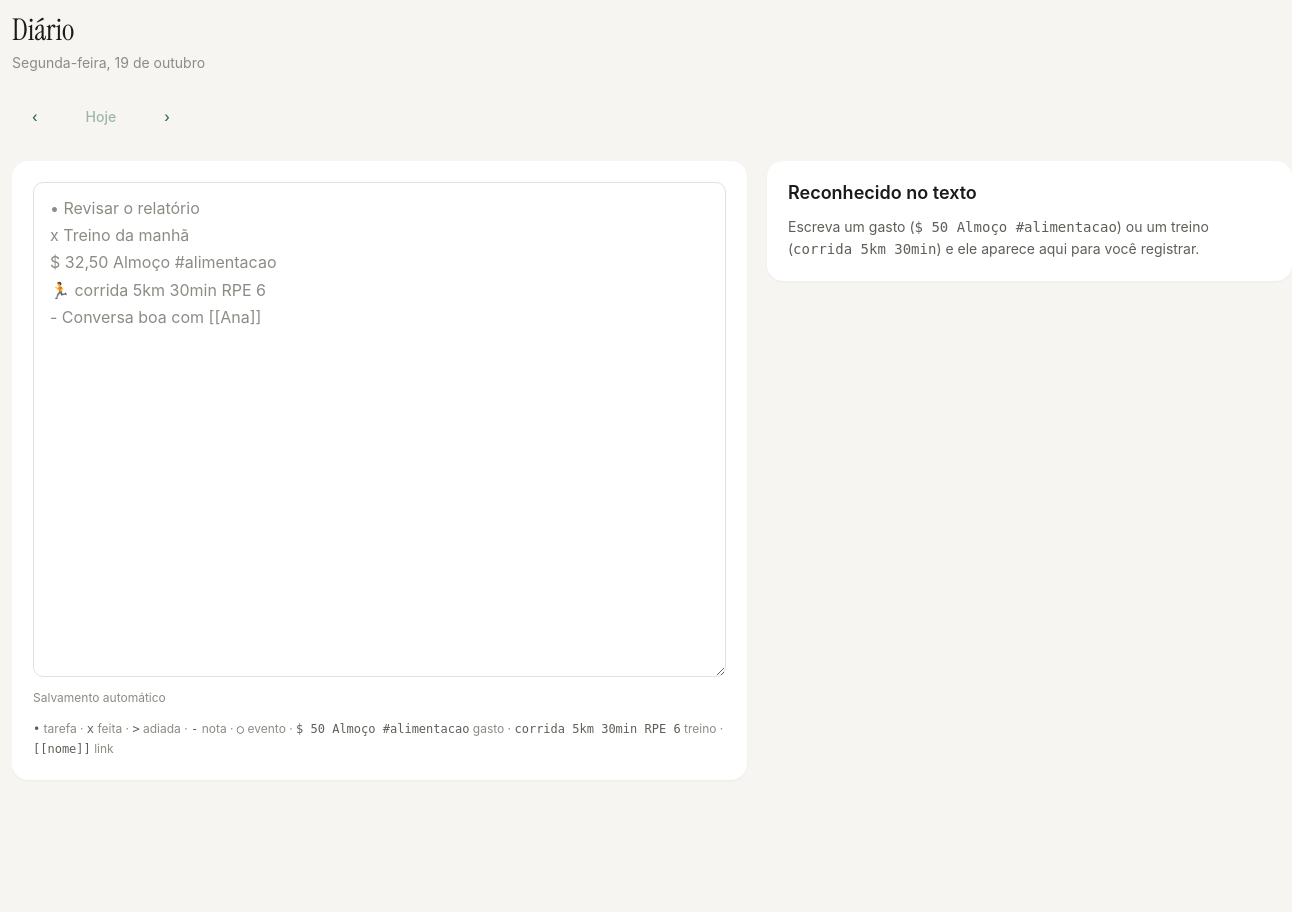
it: JournalPage (diário) › registra um gasto reconhecido e permite desfazer
The width and height of the screenshot is (1292, 912).
Replace the text in the text box named "Texto do dia" with "$ 32,50 Almoço #alimentação": {"x": 380, "y": 430} [33, 182, 726, 677]
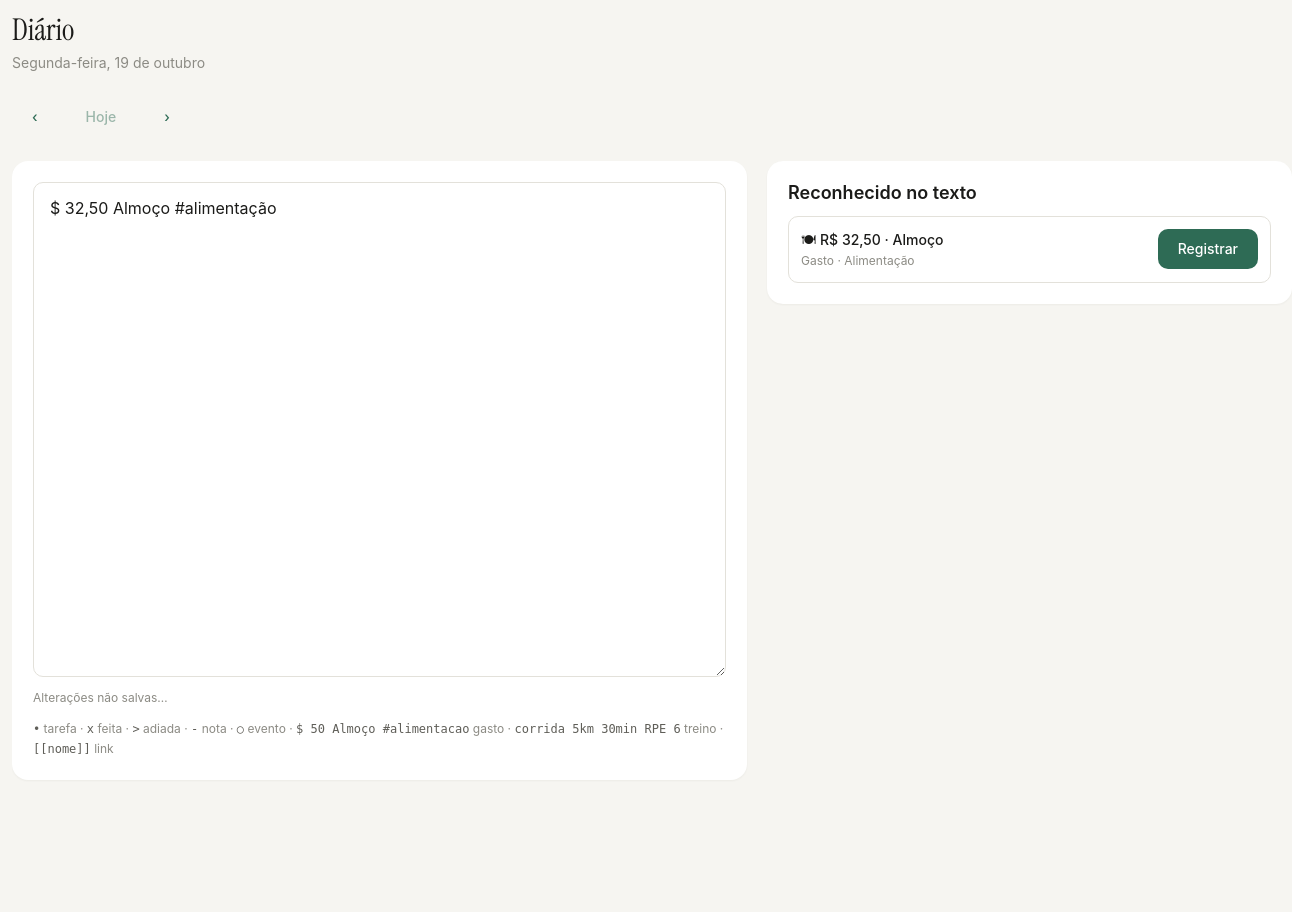
Now the text "Gasto · Alimentação" is shown, box [801, 253, 915, 268]
Click the button "Registrar": {"x": 1208, "y": 249} [1158, 229, 1258, 269]
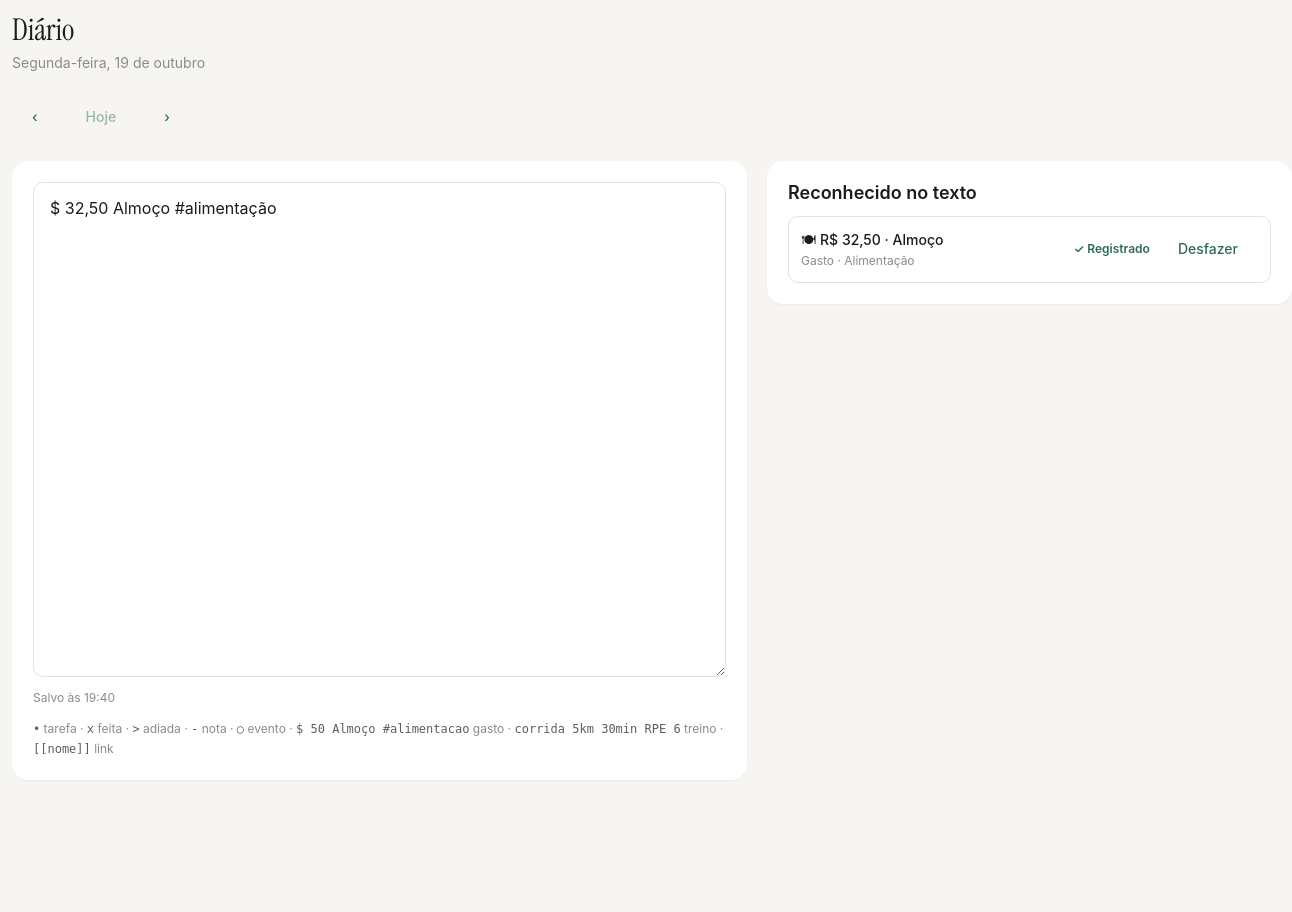
Now the text "✓ Registrado" is shown, box [1074, 240, 1150, 258]
Click the button "Desfazer": {"x": 1208, "y": 249} [1158, 229, 1258, 269]
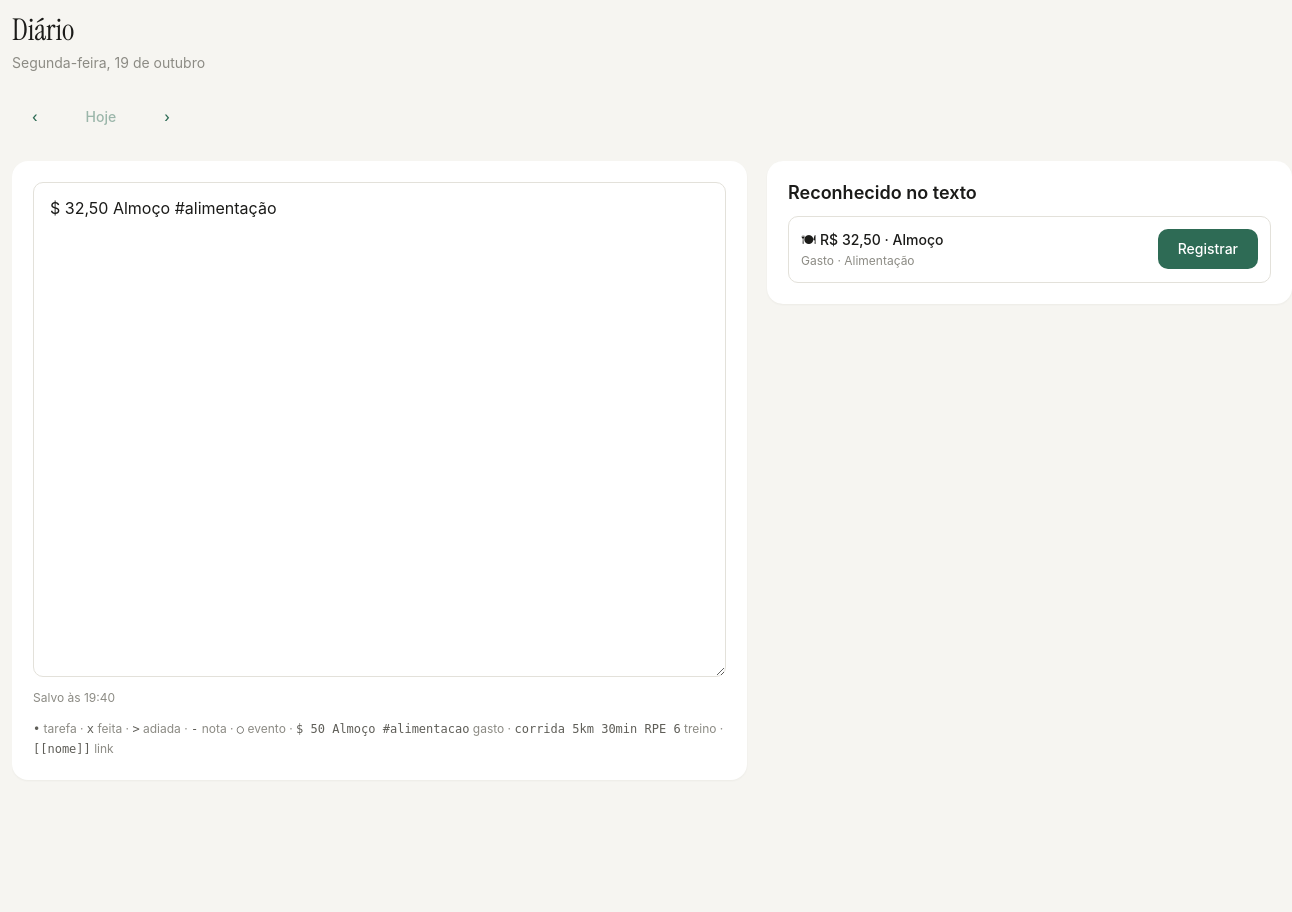
Now the text "🍽 R$ 32,50 · Almoço" is shown, box [801, 229, 944, 250]
Now the button "Registrar" is shown, box [1158, 229, 1258, 269]
